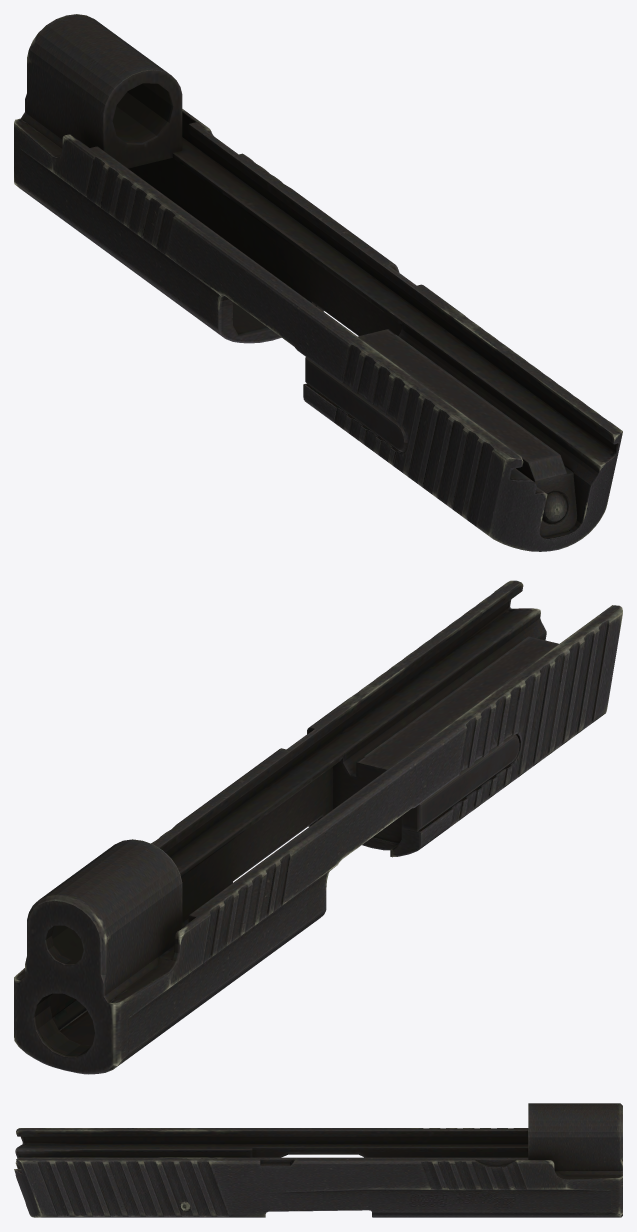
3 views of the same model, one above another, from view 1: azimuth 30°, elevation 25°; view 2: azimuth 150°, elevation 25°; view 3: azimuth 270°, elevation 25° (orthographic). The views are drawn at different scales.
Visible parts, largest first — view 1: TW_5c0125fc0db834001a669aa3_PZ_Import; view 2: TW_5c0125fc0db834001a669aa3_PZ_Import; view 3: TW_5c0125fc0db834001a669aa3_PZ_Import.
Boxes of the visible parts, x1,y1,x2,y2 form: TW_5c0125fc0db834001a669aa3_PZ_Import: (14, 14, 622, 551); TW_5c0125fc0db834001a669aa3_PZ_Import: (14, 580, 622, 1074); TW_5c0125fc0db834001a669aa3_PZ_Import: (14, 1103, 622, 1217).
Size of the model in its own units: 0.0142 by 0.1059 by 0.0201.
Materials: 1 (1 with a texture image).
